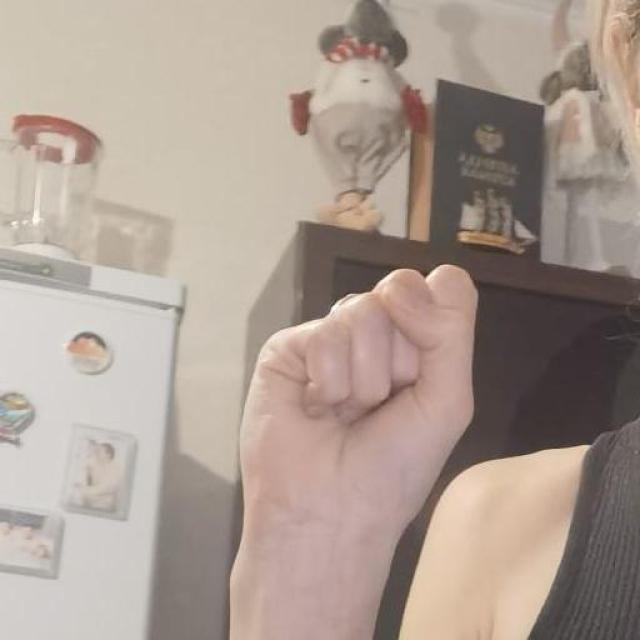hand: (225, 261, 479, 534)
